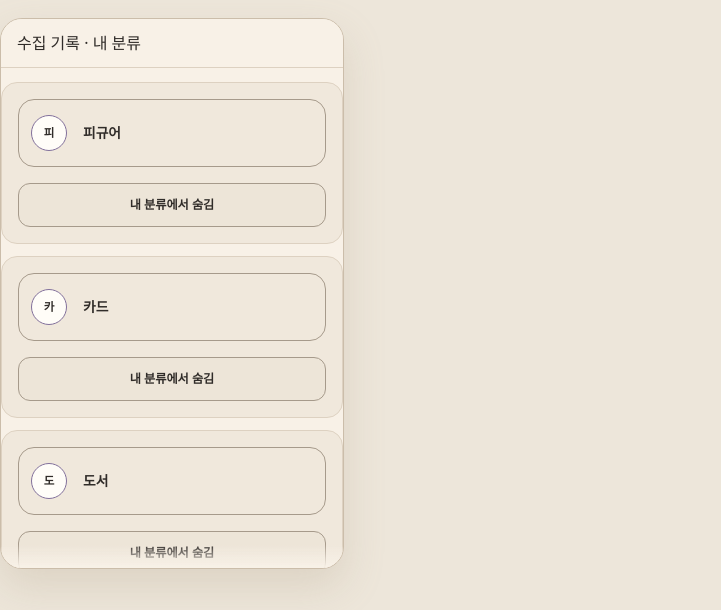
Test: keeps the last kind when earlier lookups finish out of order
The image size is (721, 610).
Click the button "도 도서".
click(49, 480)  # box [18, 446, 326, 514]
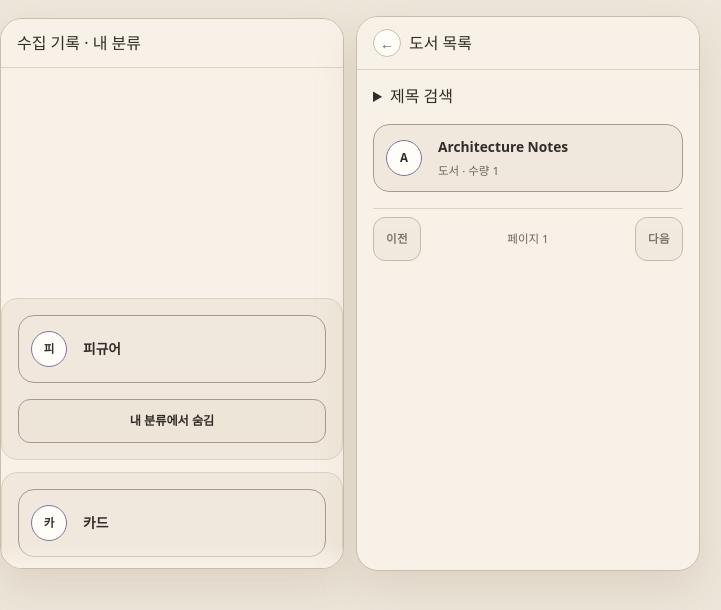
Now the button "A Architecture Notes 도서 · 수량 1" is shown, box [373, 124, 683, 192]
Click the button "피 피규어".
click(49, 348)  # box [18, 314, 326, 382]
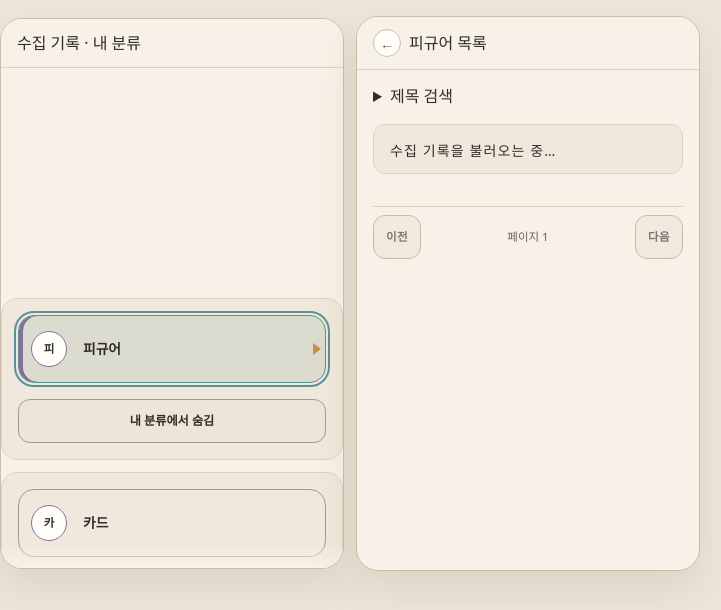
Click the button "카 카드".
click(49, 522)  # box [18, 488, 326, 556]
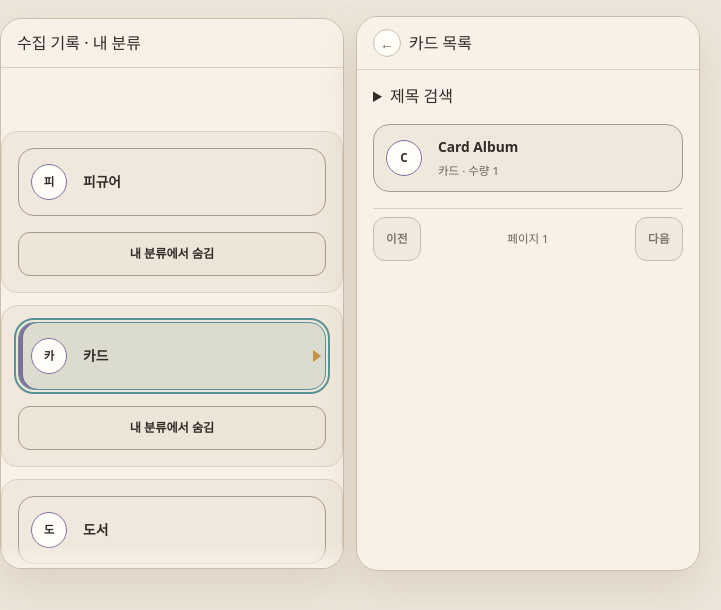
Expected: the button "Architecture Notes" is not shown
Now the button "C Card Album 카드 · 수량 1" is shown, box [373, 124, 683, 192]
